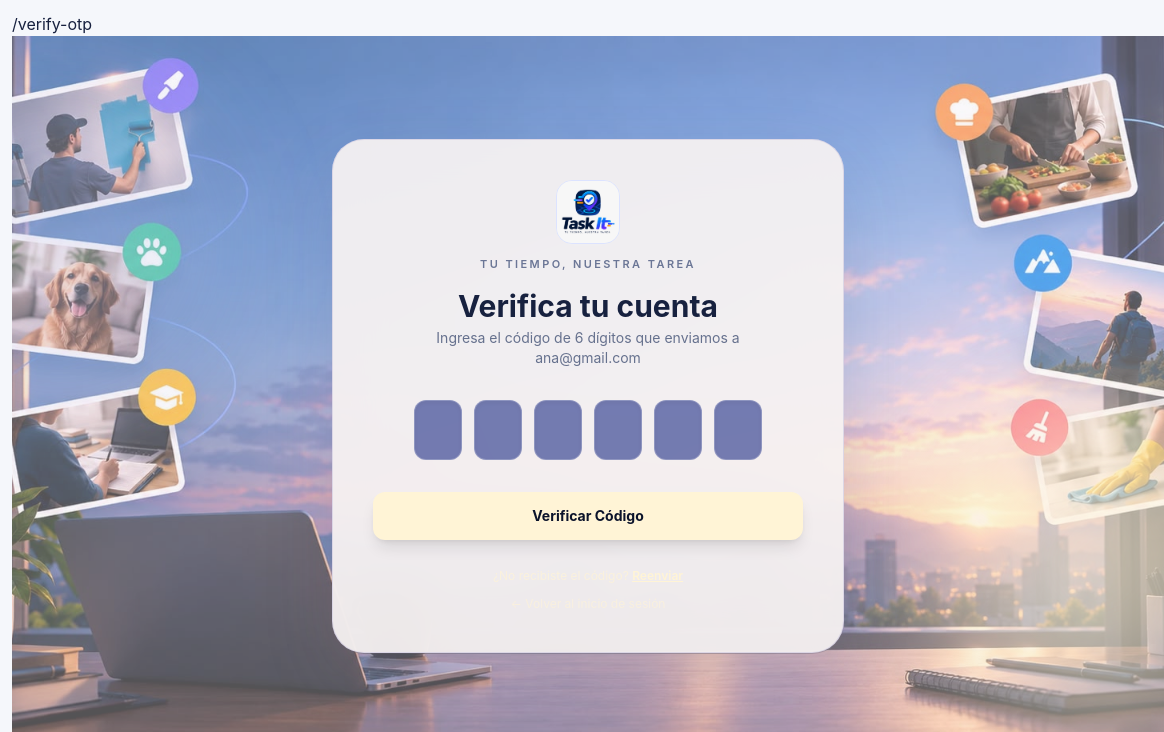
Test case: OtpVerificationPage › no envía si el código está incompleto
Click the 1st field: (438, 430) 414,400 -> 462,460
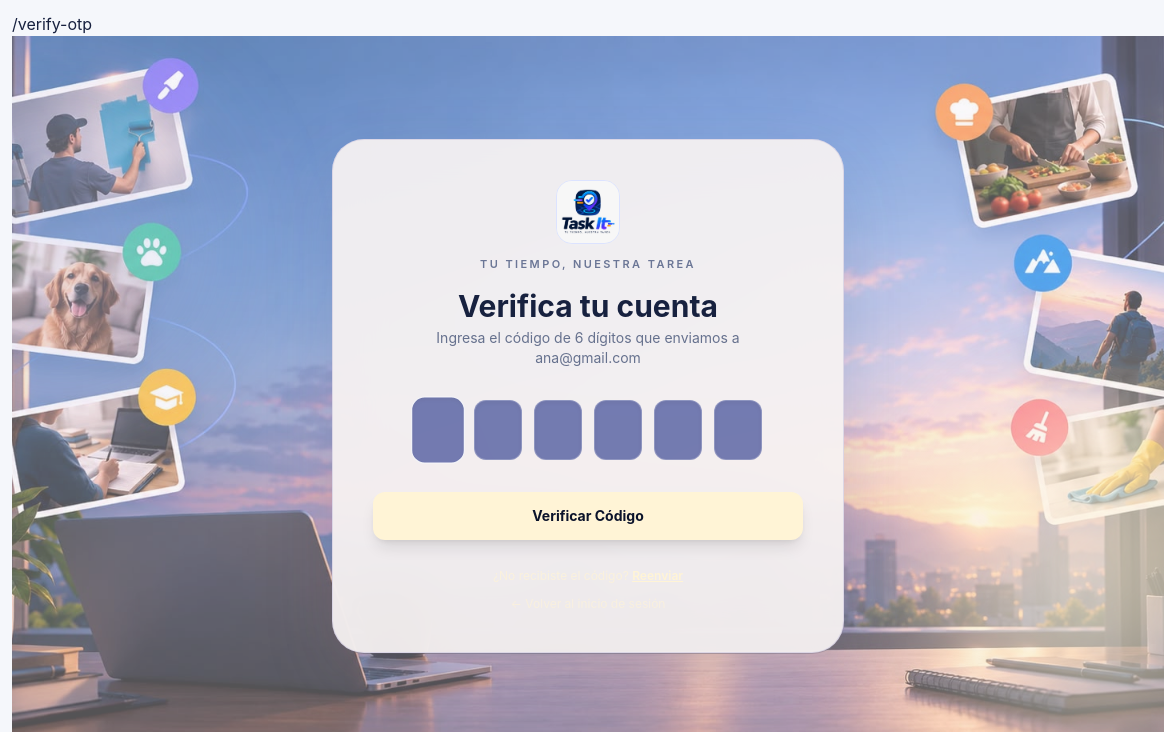
Type keys "123"
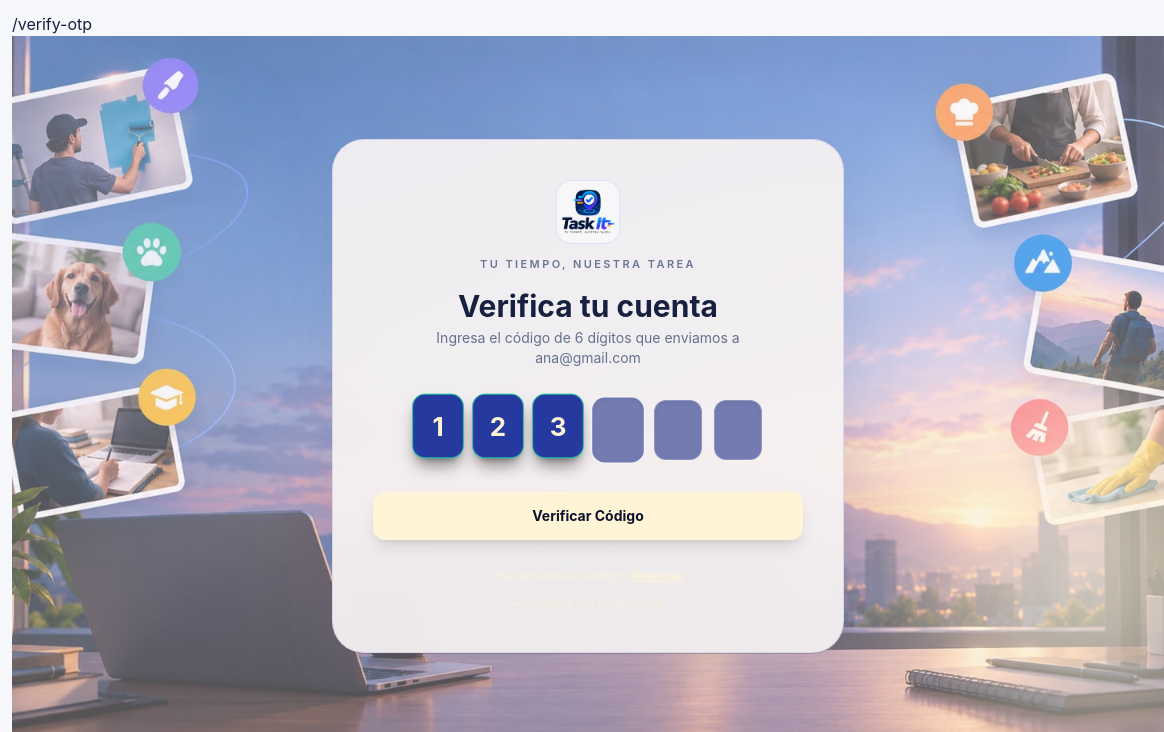
Click the button "Verificar Código": (588, 516) 373,492 -> 803,540
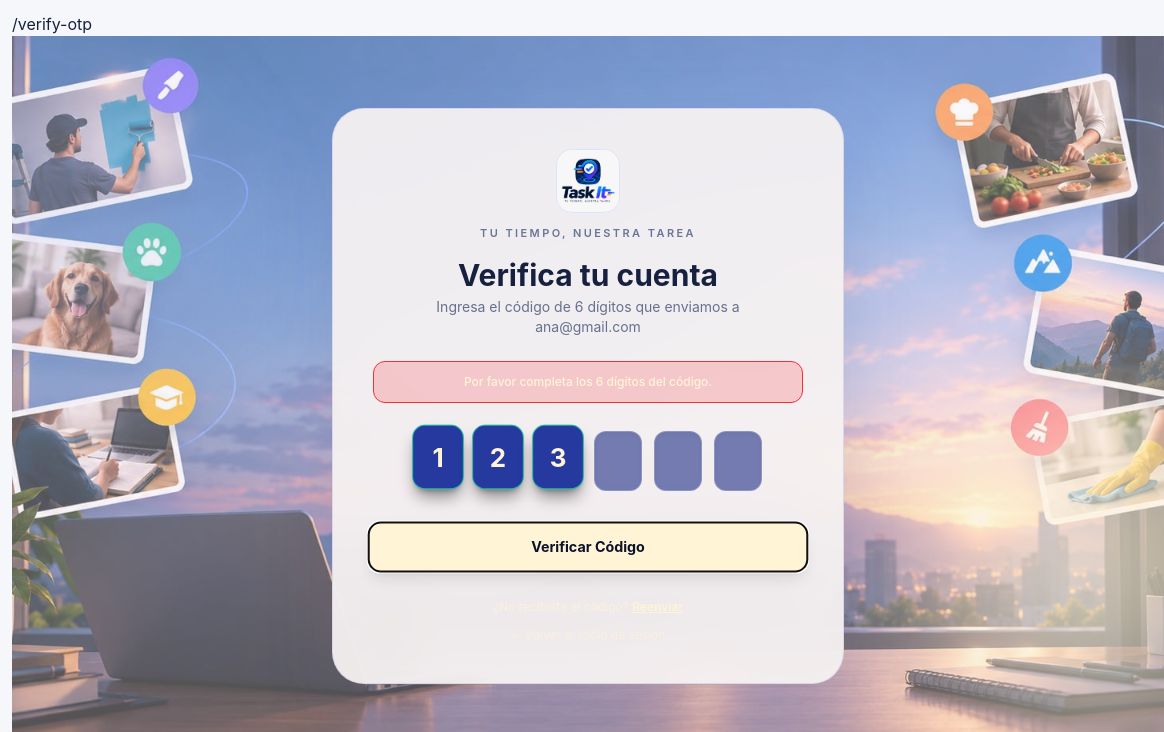
Now the text "Por favor completa los 6 dígitos del código." is shown, box 373,361 -> 803,403
